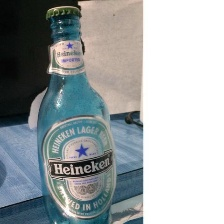bottle: (32, 2, 125, 224)
